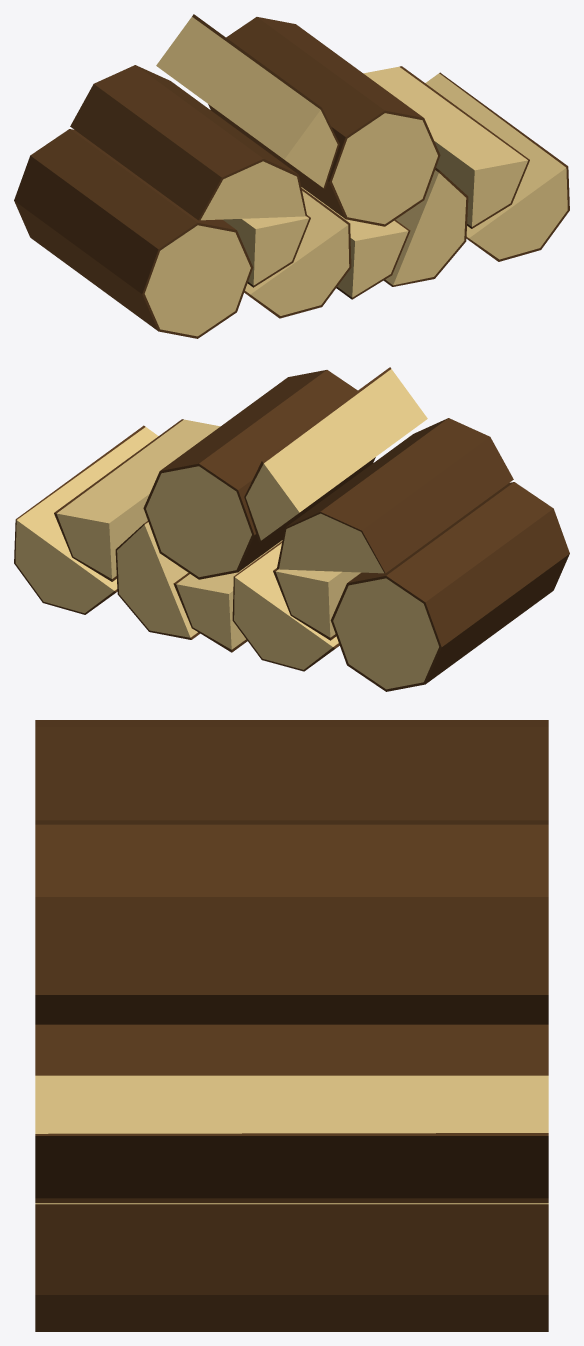
Rendered from Stack_Of_Wood.fbx.
The picture shows the model from 3 angles, top to bottom: view 1: azimuth 30°, elevation 25°; view 2: azimuth 150°, elevation 25°; view 3: azimuth 270°, elevation 25°; orthographic projection. The views are drawn at different scales.
Visible parts, largest first — view 1: Stack_Of_Wood_Mesh; view 2: Stack_Of_Wood_Mesh; view 3: Stack_Of_Wood_Mesh.
Part boxes in pixels (x1,y1,x2,y2): Stack_Of_Wood_Mesh: (14, 14, 569, 338); Stack_Of_Wood_Mesh: (14, 367, 569, 691); Stack_Of_Wood_Mesh: (35, 720, 548, 1331).
Bounding box in the file's own units: 771 × 346 × 400.
